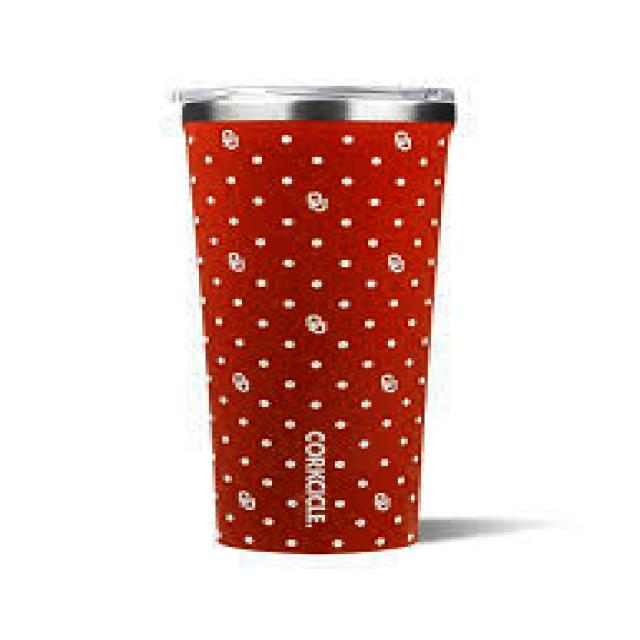bottle: (180, 84, 458, 551)
